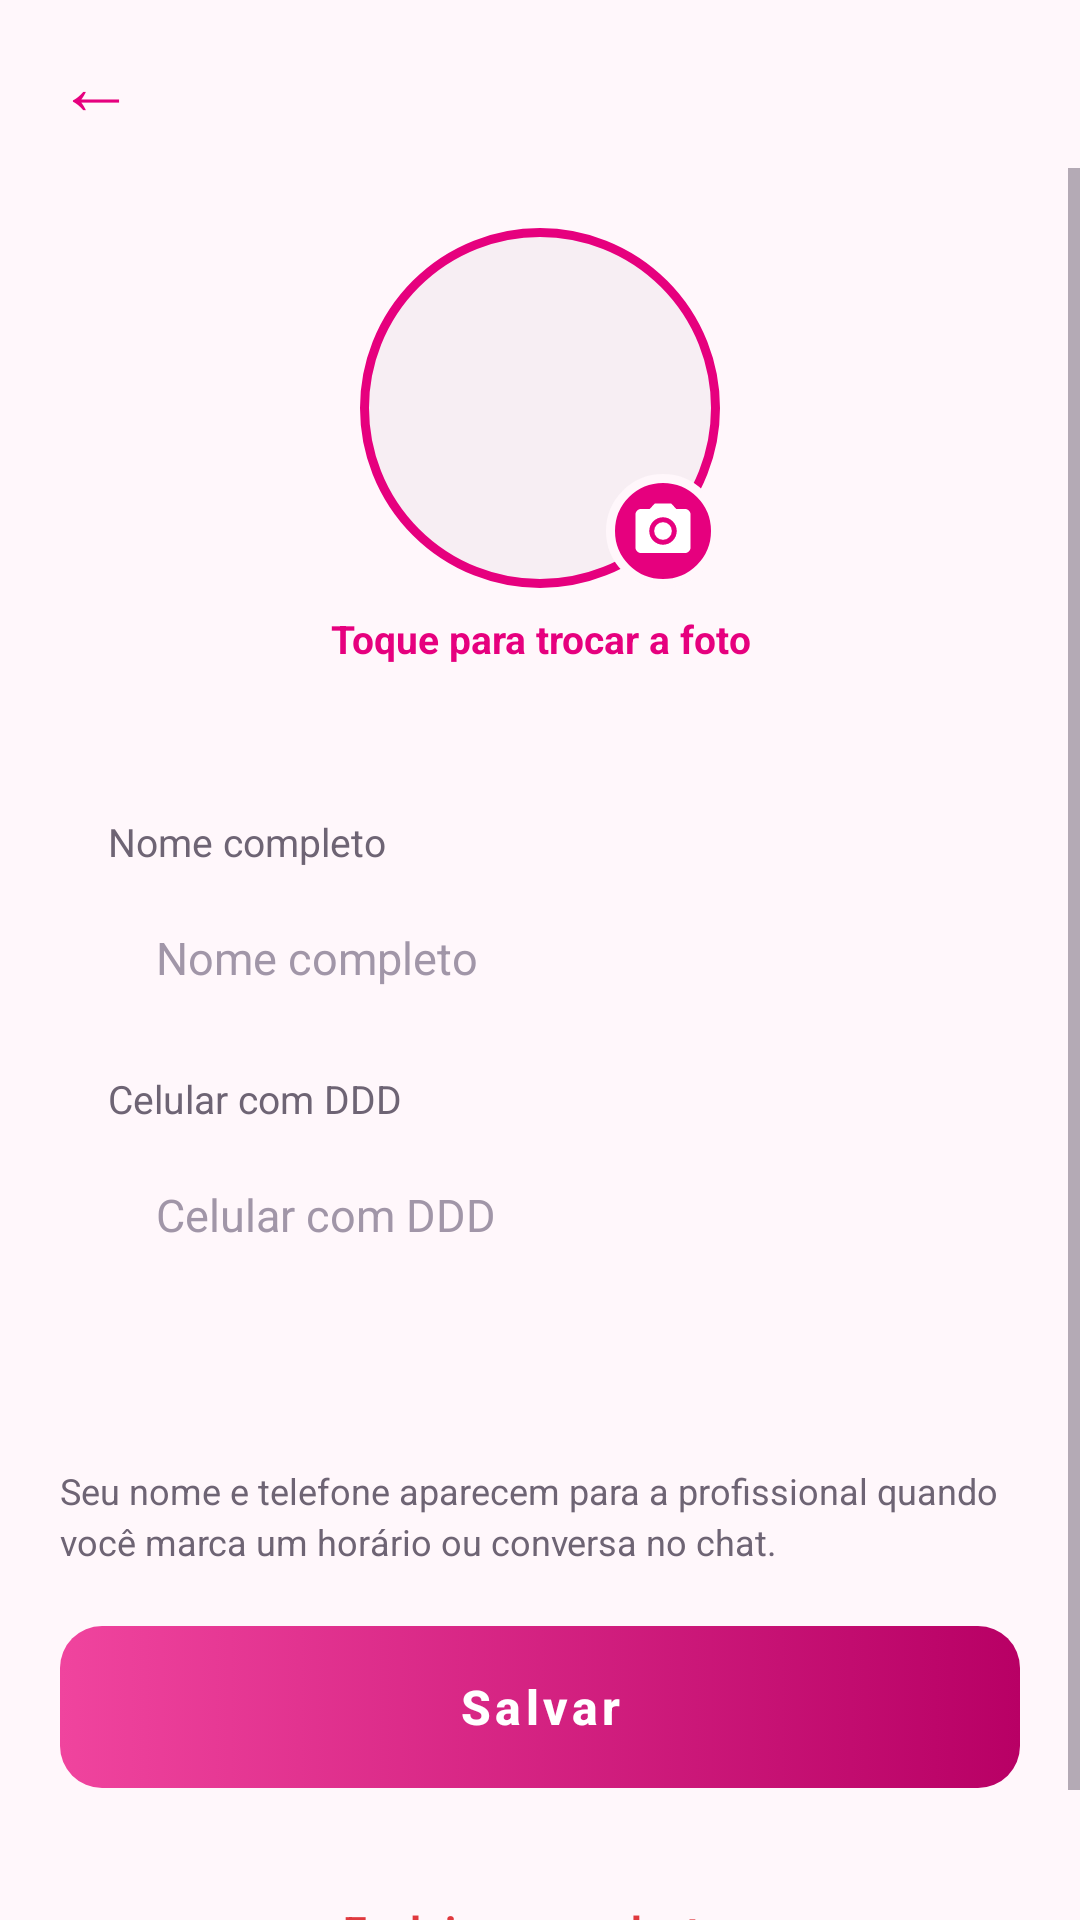

Point at icon controls on the screen. Image size 1080w x 1920h, points as [x,y].
camera: [663,531]
